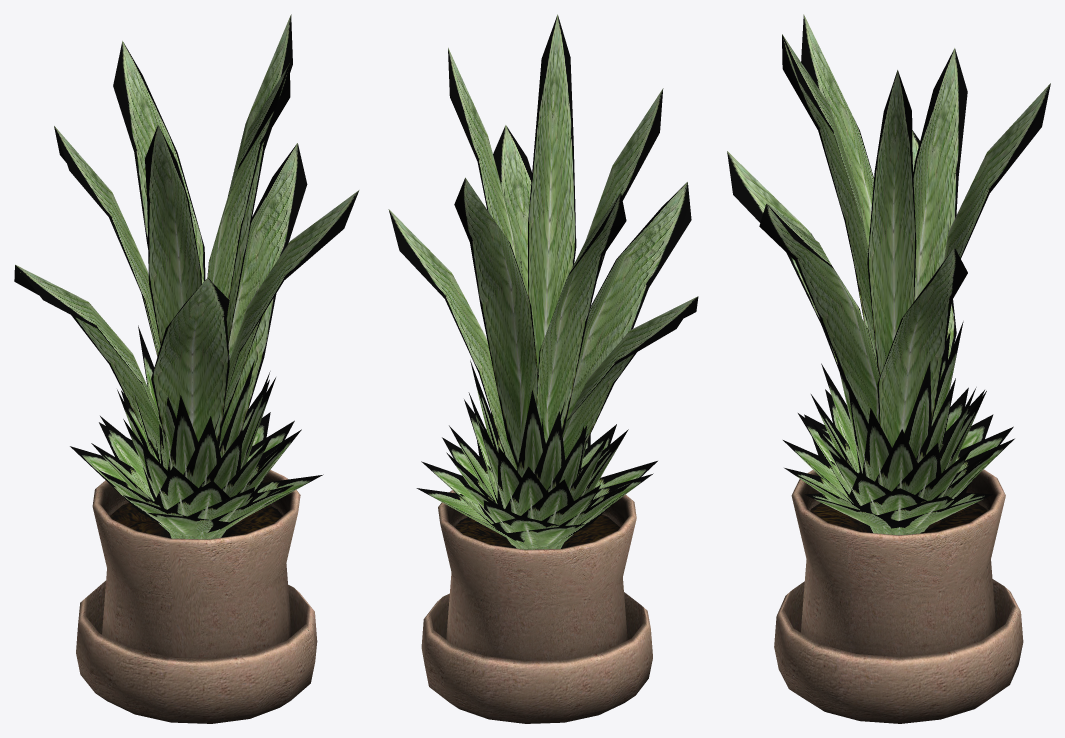
Rendered from Indoorplant3.obj.
3 views of the same model, side by side, from view 1: azimuth 30°, elevation 25°; view 2: azimuth 150°, elevation 25°; view 3: azimuth 270°, elevation 25° (orthographic). The views are drawn at different scales.
Visible parts, largest first — view 1: Low-Poly_Plant_.001_Cube.000, Low-Poly_Plant__Cube.055; view 2: Low-Poly_Plant_.001_Cube.000, Low-Poly_Plant__Cube.055; view 3: Low-Poly_Plant_.001_Cube.000, Low-Poly_Plant__Cube.055.
Boxes of the visible parts, left/top/right/bottom form: Low-Poly_Plant_.001_Cube.000: left=14, top=14, right=359, bottom=539; Low-Poly_Plant__Cube.055: left=76, top=470, right=317, bottom=723; Low-Poly_Plant_.001_Cube.000: left=388, top=14, right=698, bottom=549; Low-Poly_Plant__Cube.055: left=421, top=490, right=652, bottom=723; Low-Poly_Plant_.001_Cube.000: left=727, top=14, right=1050, bottom=535; Low-Poly_Plant__Cube.055: left=774, top=469, right=1023, bottom=723.
Bounding box in the file's own units: 0.6533 × 1.35 × 0.5929.
3 materials, 3 textured.
